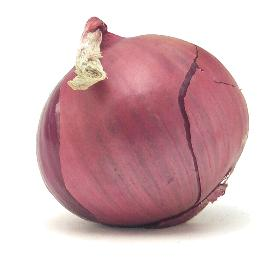onion: (38, 16, 251, 230)
